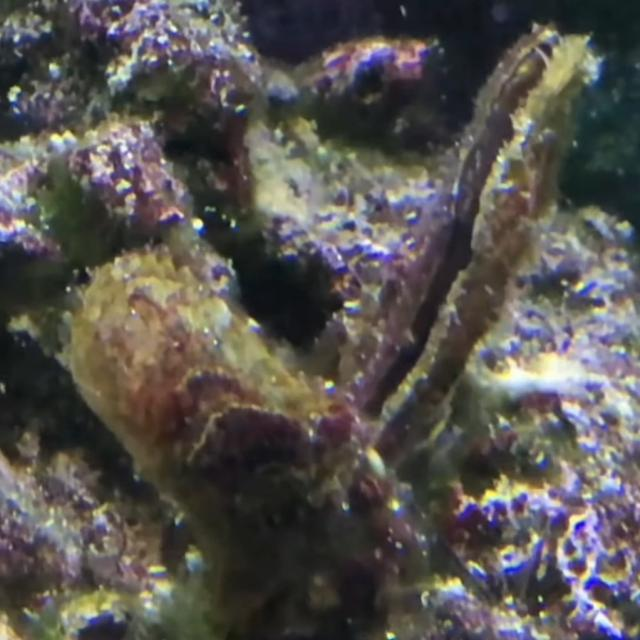Oyster-Indeterminate: (62, 250, 400, 594)
Oyster-Open: (306, 24, 599, 465)
